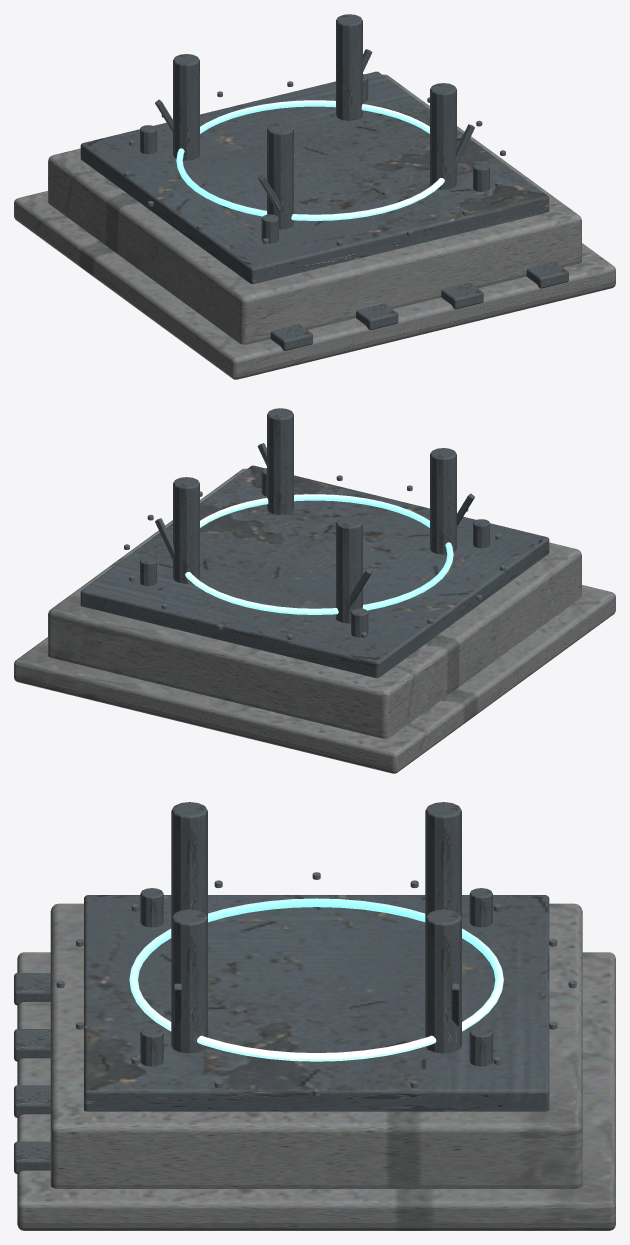
File: tower_foundation.glb
3 views of the same model, one above another, from view 1: azimuth 30°, elevation 25°; view 2: azimuth 150°, elevation 25°; view 3: azimuth 270°, elevation 25° (orthographic). The views are drawn at different scales.
Parts seen in each view (by area): view 1: FoundationRing, Footing, FootingStep, FoundationEnergyRing, ServiceConduit3, ServiceConduit2, ServiceConduit0, ServiceConduit1, AccessStep1, AccessStep3, AccessStep2, AccessStep0; view 2: FoundationRing, Footing, FootingStep, FoundationEnergyRing, ServiceConduit0, ServiceConduit1, ServiceConduit3, ServiceConduit2; view 3: FoundationRing, Footing, FootingStep, FoundationEnergyRing, ServiceConduit3, ServiceConduit0, ServiceConduit1, ServiceConduit2, AccessStep3, AccessStep2, AccessStep1, AccessStep0 (+4 smaller).
Boxes of the visible parts, <box> form: FoundationRing: <box>80,71,549,284</box>; Footing: <box>48,74,581,344</box>; FootingStep: <box>14,191,615,379</box>; FoundationEnergyRing: <box>176,100,444,220</box>; ServiceConduit3: <box>336,14,362,120</box>; ServiceConduit2: <box>173,54,199,160</box>; ServiceConduit0: <box>430,83,456,189</box>; ServiceConduit1: <box>267,122,293,229</box>; AccessStep1: <box>356,303,398,330</box>; AccessStep3: <box>526,262,568,288</box>; AccessStep2: <box>441,282,483,309</box>; AccessStep0: <box>270,324,312,350</box>; FoundationRing: <box>80,465,549,678</box>; Footing: <box>48,468,581,738</box>; FootingStep: <box>14,585,615,773</box>; FoundationEnergyRing: <box>185,494,453,614</box>; ServiceConduit0: <box>267,408,293,514</box>; ServiceConduit1: <box>430,448,456,554</box>; ServiceConduit3: <box>173,477,199,583</box>; ServiceConduit2: <box>336,516,362,623</box>; FoundationRing: <box>84,895,549,1111</box>; Footing: <box>50,903,582,1188</box>; FootingStep: <box>17,952,615,1230</box>; FoundationEnergyRing: <box>129,898,503,1061</box>; ServiceConduit3: <box>425,909,461,1053</box>; ServiceConduit0: <box>171,909,207,1053</box>; ServiceConduit1: <box>171,802,207,917</box>; ServiceConduit2: <box>425,802,461,917</box>; AccessStep3: <box>14,1141,50,1173</box>; AccessStep2: <box>14,1085,50,1117</box>; AccessStep1: <box>14,1029,50,1061</box>; AccessStep0: <box>14,973,50,1005</box>.
Bounding box in the file's own units: 18 × 8.1 × 18.1.
4 materials, 4 textured.
